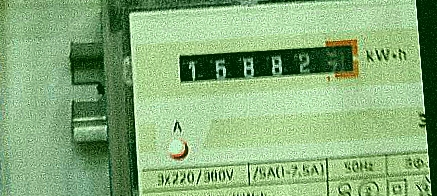1: (184, 58, 200, 81)
2: (295, 50, 313, 76)
5: (212, 55, 228, 81)
7: (326, 55, 339, 73)
8: (268, 53, 284, 78), (240, 55, 255, 79)
screen: (168, 30, 369, 101)
